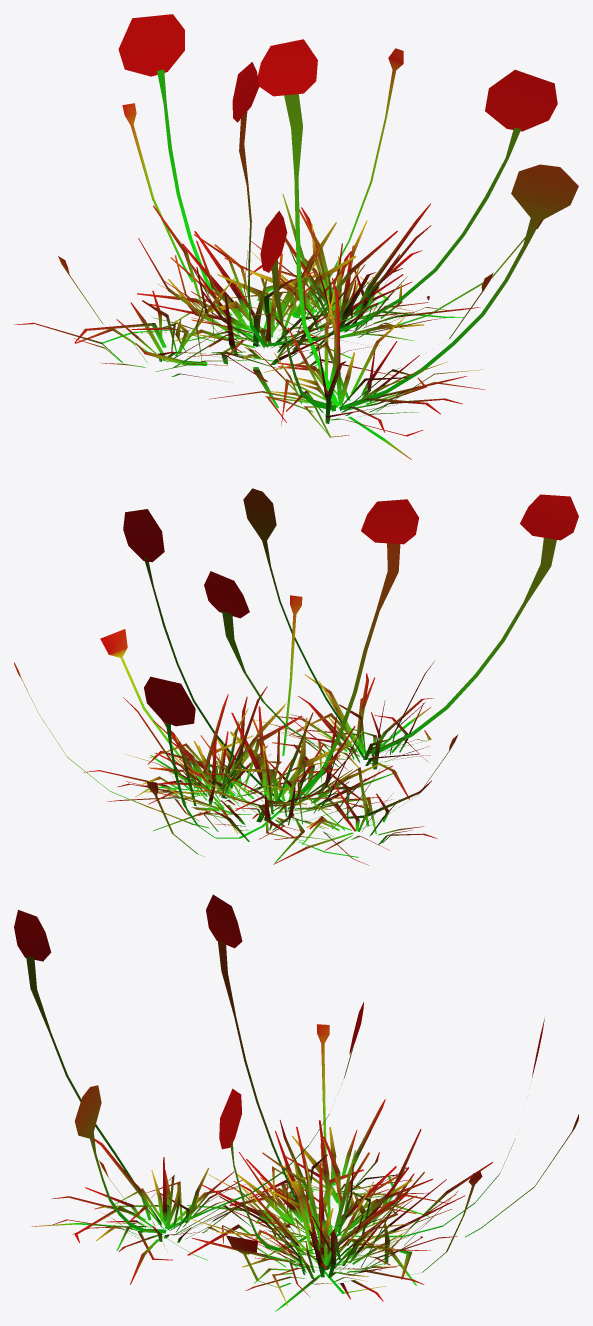
File: Var2_LOD3.fbx
The picture shows the model from 3 angles, top to bottom: view 1: azimuth 30°, elevation 25°; view 2: azimuth 150°, elevation 25°; view 3: azimuth 270°, elevation 25°; orthographic projection. The views are drawn at different scales.
Parts seen in each view (by area): view 1: _bbzc_Var2_LOD3; view 2: _bbzc_Var2_LOD3; view 3: _bbzc_Var2_LOD3.
Boxes of the visible parts, x1,y1,x2,y2 form: _bbzc_Var2_LOD3: (14, 14, 578, 459); _bbzc_Var2_LOD3: (14, 488, 578, 865); _bbzc_Var2_LOD3: (14, 894, 578, 1311).
Size of the model in its own units: 30.97 by 22.2 by 36.5.
